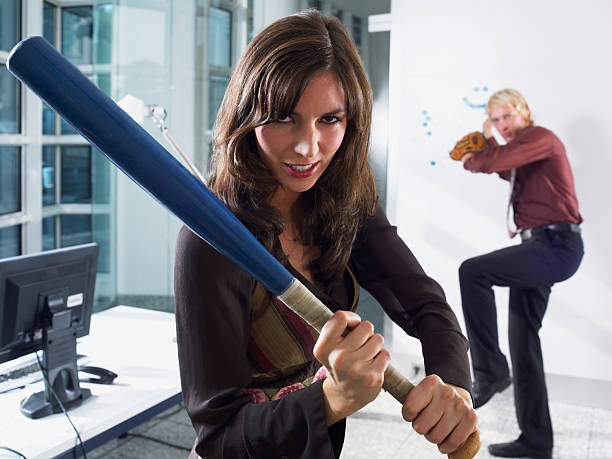bita: (16, 42, 290, 304), (256, 268, 476, 454)
